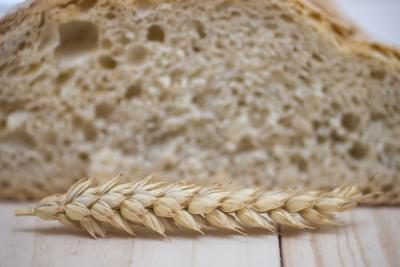slice of bread: (1, 1, 398, 227)
